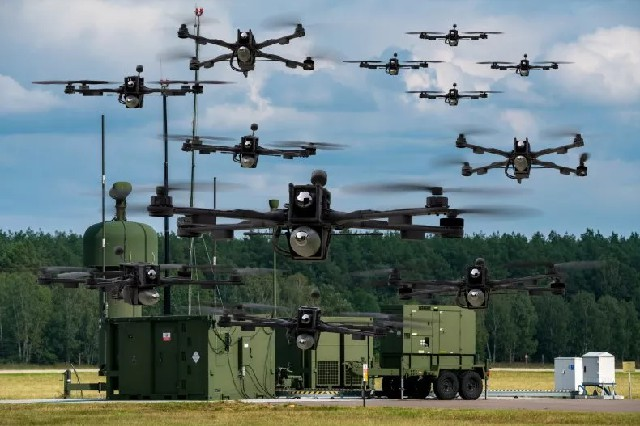maybay_khongnguoilai: (139, 166, 471, 256), (355, 246, 598, 310), (44, 249, 275, 314), (196, 289, 431, 349), (437, 124, 601, 189), (166, 15, 315, 81), (36, 72, 234, 111), (161, 122, 329, 164), (339, 49, 445, 78), (477, 52, 573, 84), (404, 24, 503, 53), (408, 83, 497, 115)
